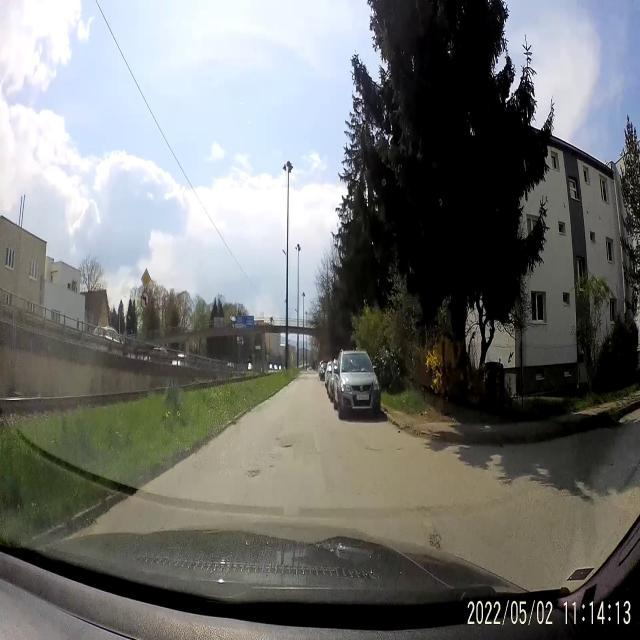Pothole: (246, 460, 268, 486), (427, 522, 445, 550), (272, 434, 294, 454)
